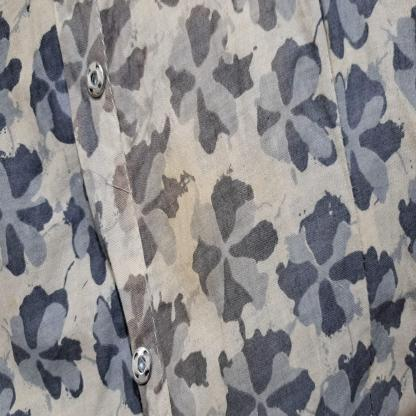spot: (164, 156, 206, 294), (203, 248, 221, 312), (8, 294, 18, 317)
